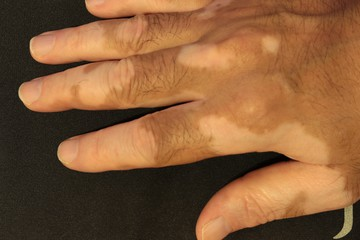vitiligo: (65, 4, 341, 205)
